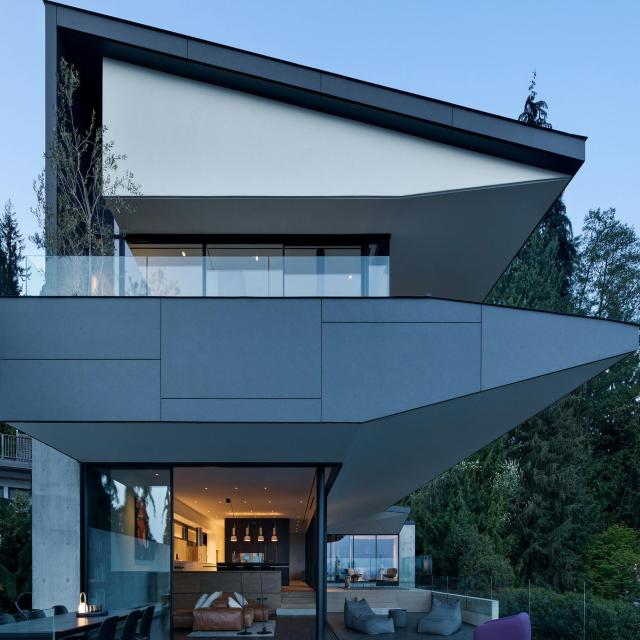railing: (23, 254, 390, 301), (326, 559, 433, 592)
window: (86, 465, 170, 612), (94, 233, 389, 253), (328, 534, 401, 561)
